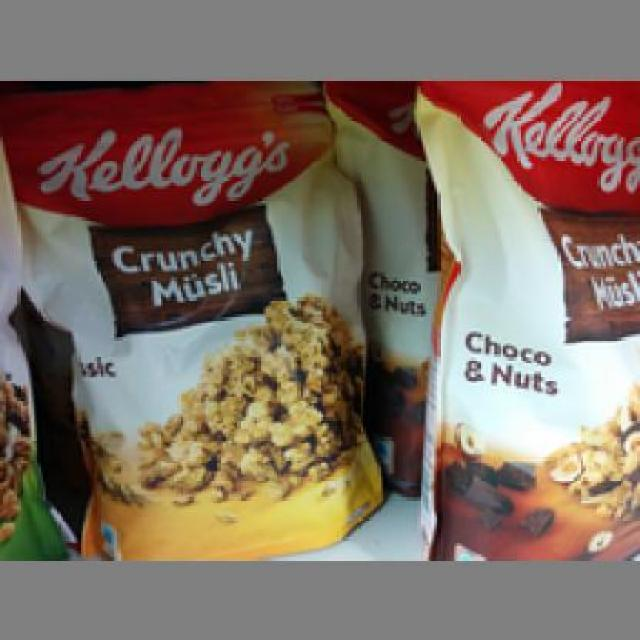Cereal: (0, 77, 366, 554), (412, 77, 638, 560)
